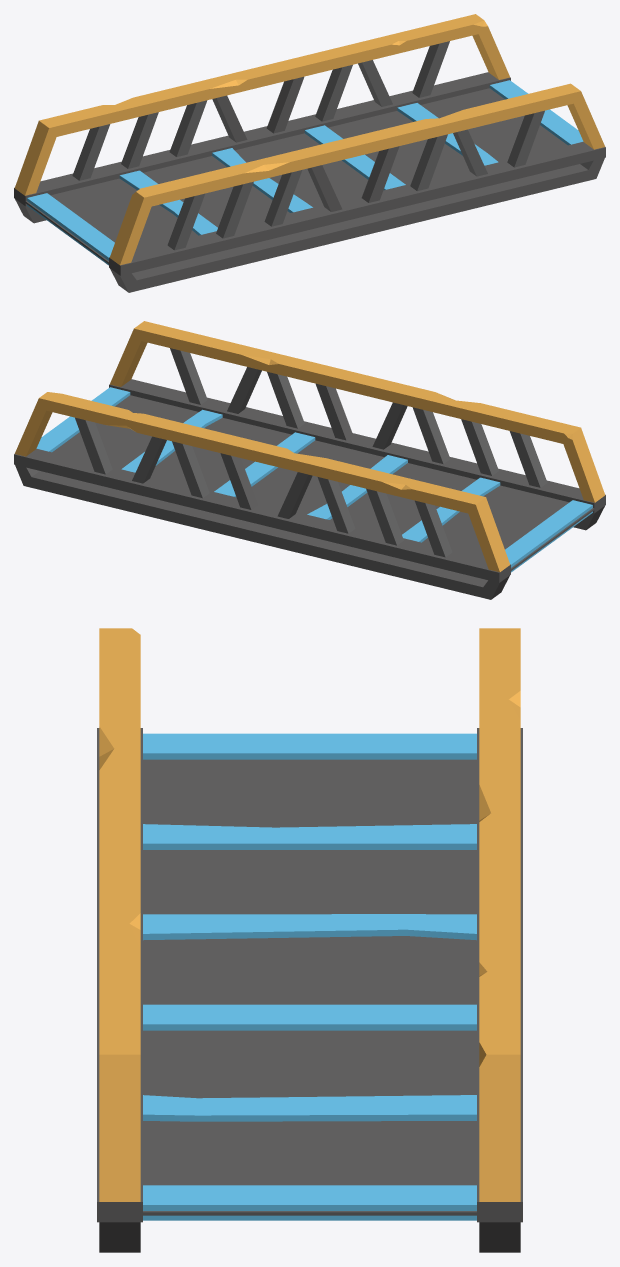
Rendered from SM_Prop_Bridge_01.fbx.
3 views of the same model, one above another, from view 1: azimuth 30°, elevation 25°; view 2: azimuth 150°, elevation 25°; view 3: azimuth 270°, elevation 25° (orthographic). The views are drawn at different scales.
Parts seen in each view (by area): view 1: SM_Prop_Bridge_01; view 2: SM_Prop_Bridge_01; view 3: SM_Prop_Bridge_01.
Part boxes in pixels (<box>): SM_Prop_Bridge_01: <box>14,14,605,292</box>; SM_Prop_Bridge_01: <box>14,321,605,599</box>; SM_Prop_Bridge_01: <box>97,628,522,1252</box>.
Bounding box in the file's own units: 500 × 90.07 × 190.
1 material, 1 textured.
